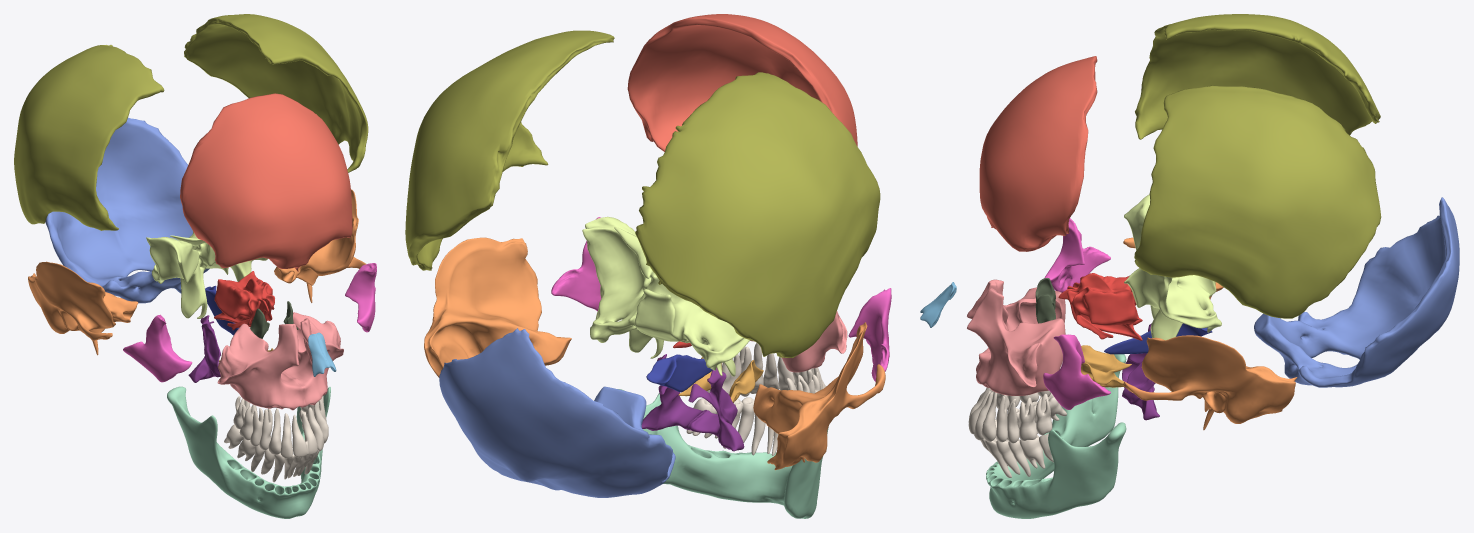
File: exploded-skull.glb
3 renders of one model, left to right at view 1: azimuth 30°, elevation 25°; view 2: azimuth 150°, elevation 25°; view 3: azimuth 270°, elevation 25°, orthographic. The views are drawn at different scales.
Parts seen in each view (by area): view 1: Frontal bone, Parietal bone.r, Occipital bone, Parietal bone.l, Maxilla bone, Temporal bones, Mandible bone, Sphenoid bone, Zygomatic bones, Ethmoid Bone, Palatine bone, Upper medial incisors (+7 smaller); view 2: Parietal bone.r, Occipital bone, Parietal bone.l, Temporal bones, Frontal bone, Sphenoid bone, Mandible bone, Palatine bone, Zygomatic bones, Vomer, Maxilla bone, Inferior nasal concha bones; view 3: Parietal bone.l, Occipital bone, Parietal bone.r, Frontal bone, Mandible bone, Temporal bones, Maxilla bone, Sphenoid bone, Zygomatic bones, Ethmoid Bone, Inferior nasal concha bones, Palatine bone (+5 smaller).
Part boxes in pixels (x1,y1,x2,y2): Frontal bone: (180,93,352,271); Parietal bone.r: (14,45,164,230); Occipital bone: (45,117,209,303); Parietal bone.l: (184,14,368,172); Maxilla bone: (217,312,343,410); Temporal bones: (28,189,366,355); Mandible bone: (167,386,330,518); Sphenoid bone: (146,230,267,318); Zygomatic bones: (123,263,376,382); Ethmoid Bone: (214,271,274,330); Palatine bone: (188,315,220,382); Upper medial incisors: (291,412,317,457); Parietal bone.r: (635,72,880,357); Occipital bone: (439,328,675,497); Parietal bone.l: (405,30,614,270); Temporal bones: (424,237,885,470); Frontal bone: (627,14,857,151); Sphenoid bone: (582,216,749,376); Mandible bone: (618,389,828,518); Palatine bone: (641,354,744,451); Zygomatic bones: (551,217,891,381); Vomer: (646,354,712,392); Maxilla bone: (750,311,847,372); Inferior nasal concha bones: (678,357,763,402); Parietal bone.l: (1134,85,1381,318); Occipital bone: (1254,197,1459,387); Parietal bone.r: (1135,14,1380,139); Frontal bone: (979,56,1097,251); Mandible bone: (986,354,1126,518); Temporal bones: (1123,237,1297,430); Maxilla bone: (967,279,1065,395); Sphenoid bone: (1124,194,1221,340); Zygomatic bones: (1043,218,1110,409); Ethmoid Bone: (1058,273,1142,340); Inferior nasal concha bones: (1081,345,1131,387); Palatine bone: (1122,323,1159,420).
Size of the model in its own units: 0.2285 by 0.2813 by 0.3038.
